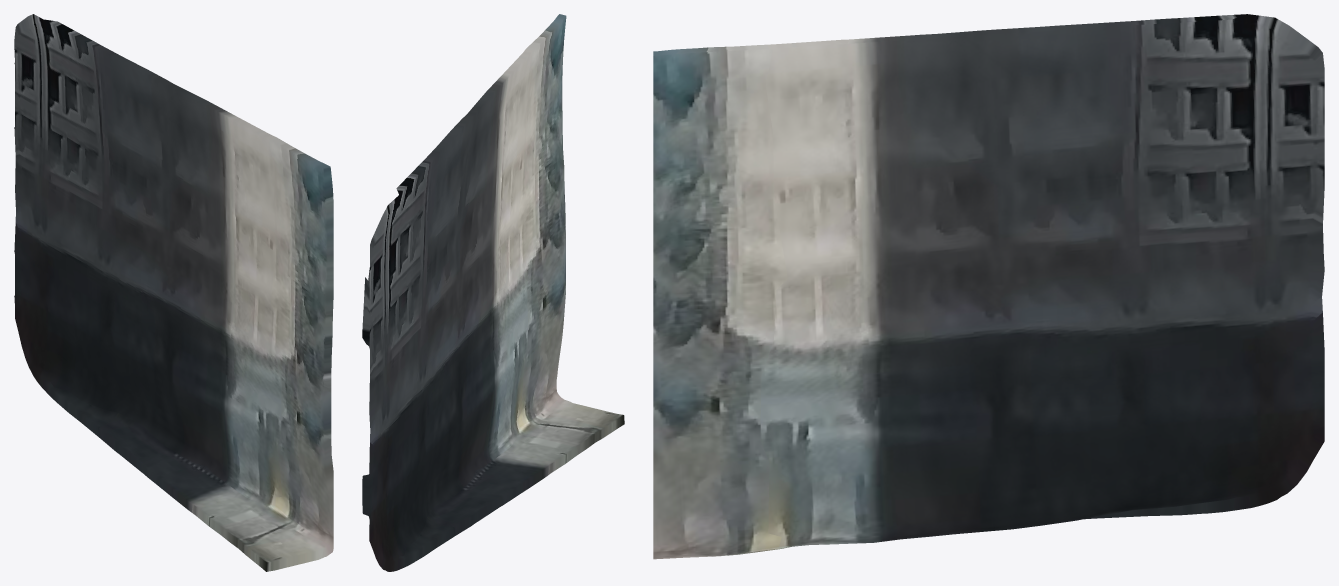
Rendered from z20-167762-405240-h0-yup-uvflip-v3-world.glb.
3 renders of one model, left to right at view 1: azimuth 30°, elevation 25°; view 2: azimuth 150°, elevation 25°; view 3: azimuth 270°, elevation 25°, orthographic. The views are drawn at different scales.
Bounding box in the file's own units: 4.68 × 25.92 × 30.32.
1 material, 1 textured.
